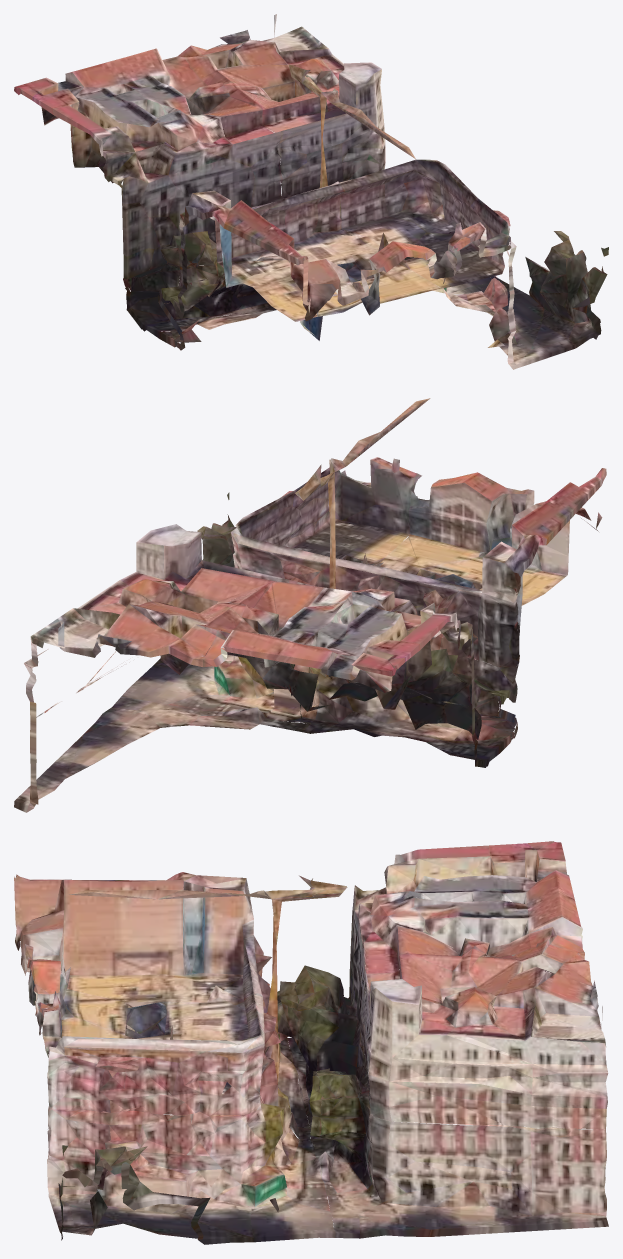
The picture shows the model from 3 angles, top to bottom: view 1: azimuth 30°, elevation 25°; view 2: azimuth 150°, elevation 25°; view 3: azimuth 270°, elevation 25°; orthographic projection. The views are drawn at different scales.
Visible parts, largest first — view 1: Mesh_0; view 2: Mesh_0; view 3: Mesh_0.
Boxes of the visible parts, box(x1,y1,x2,y2) form: Mesh_0: box(14, 14, 608, 369); Mesh_0: box(14, 398, 606, 812); Mesh_0: box(14, 841, 608, 1244).
Size of the model in its own units: 67.51 by 42.71 by 82.74.
1 material, 1 textured.
